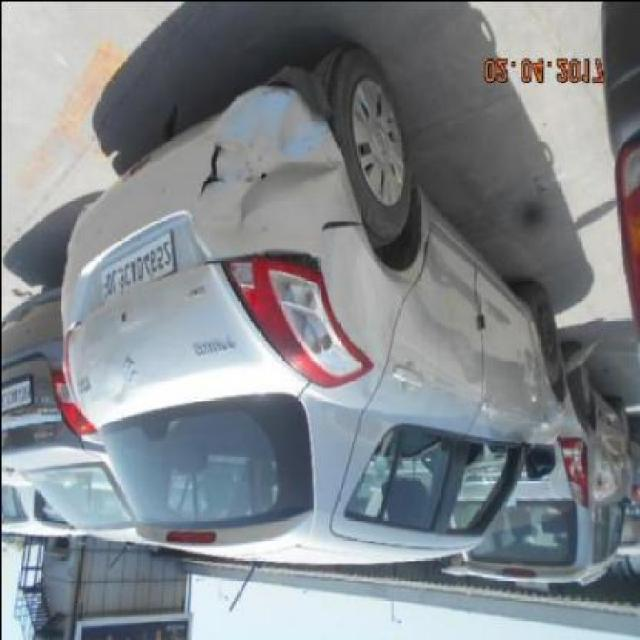damage: (216, 87, 343, 223), (200, 242, 321, 276), (193, 133, 227, 202), (100, 365, 129, 407), (317, 212, 362, 235)
